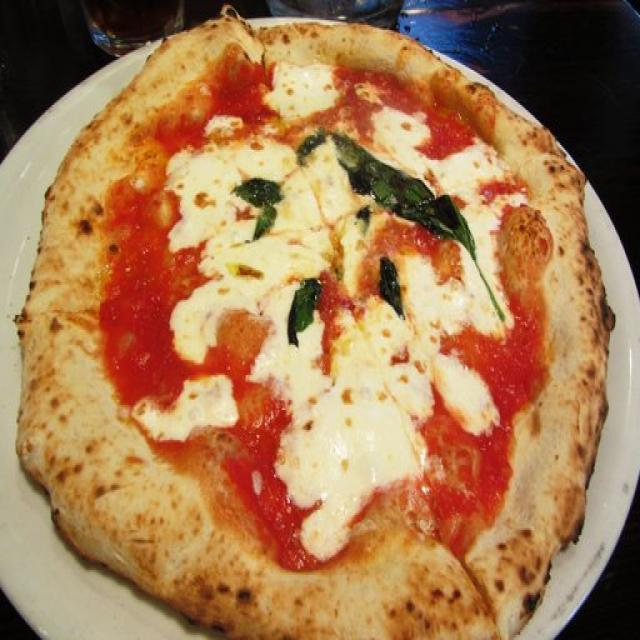Basil: (311, 129, 507, 322), (284, 276, 318, 344), (242, 175, 280, 234), (382, 250, 402, 314)
Cheese: (284, 348, 423, 546), (166, 141, 232, 356), (285, 158, 352, 284), (140, 374, 237, 439), (438, 353, 500, 437), (408, 257, 471, 336), (265, 63, 339, 119), (381, 113, 423, 160)
Pizza: (16, 13, 609, 640)
